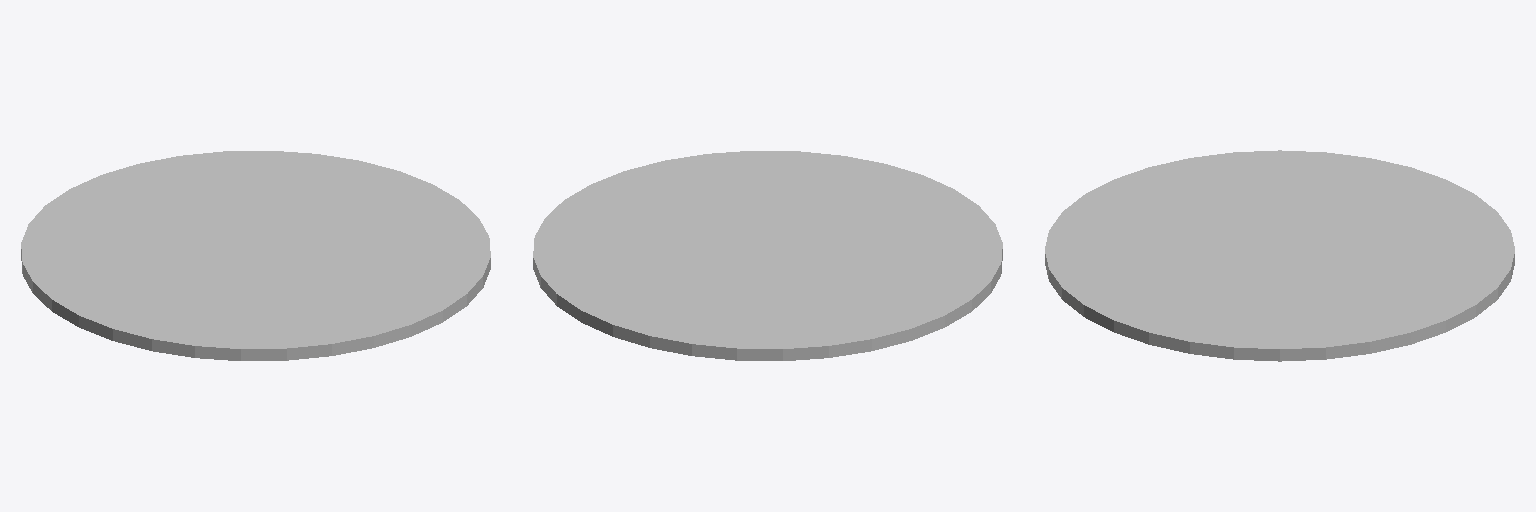
The model's file is TwoZoneHead_Outer.obj.
The picture shows the model from 3 angles: view 1: azimuth 30°, elevation 25°; view 2: azimuth 150°, elevation 25°; view 3: azimuth 270°, elevation 25°; orthographic projection.
Parts seen in each view (by area): view 1: Cylinder; view 2: Cylinder; view 3: Cylinder.
Part boxes in pixels (x1,y1,x2,y2): Cylinder: (21,151,490,360); Cylinder: (533,151,1002,360); Cylinder: (1045,150,1514,361).
Size of the model in its own units: 12.22 by 0.3475 by 12.22.